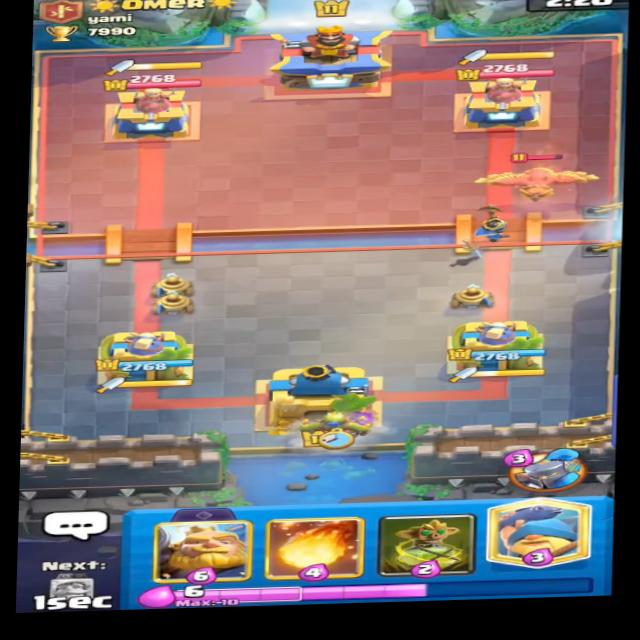Pheonix: (476, 148, 602, 204)
